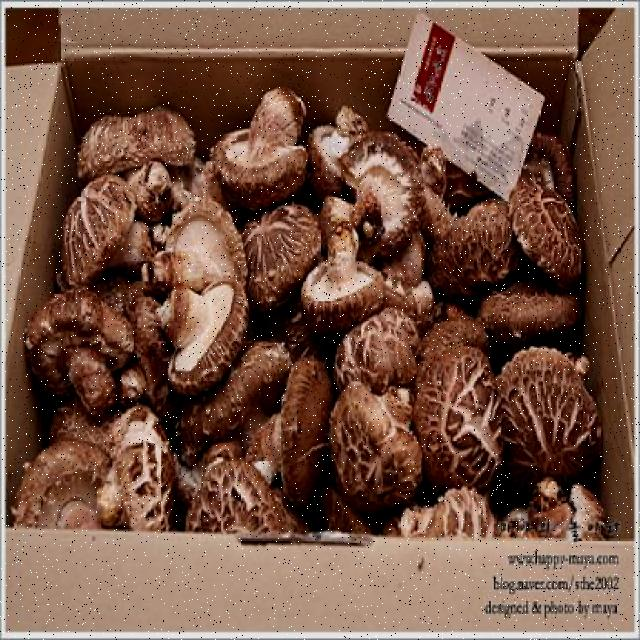Mushroom: (138, 267, 262, 393), (295, 191, 390, 337), (507, 333, 598, 481)
